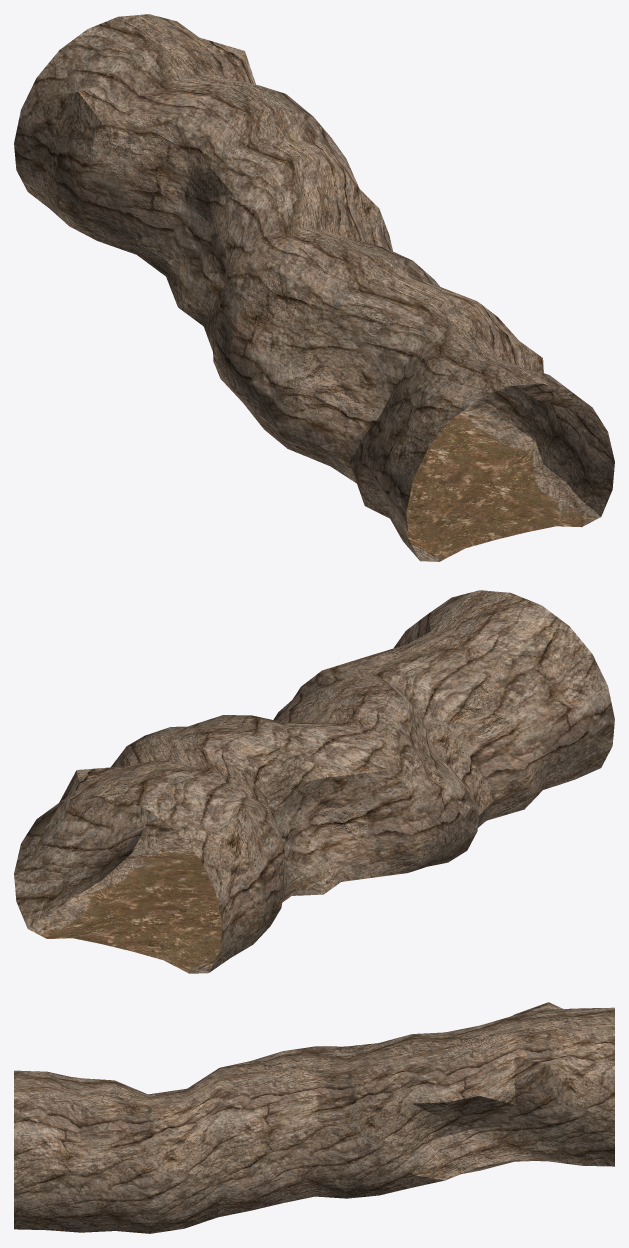
Rendered from CaveCorridorUpSmall.obj.
3 views of the same model, one above another, from view 1: azimuth 30°, elevation 25°; view 2: azimuth 150°, elevation 25°; view 3: azimuth 270°, elevation 25° (orthographic). The views are drawn at different scales.
Parts seen in each view (by area): view 1: CaveCorridorUpSmall; view 2: CaveCorridorUpSmall; view 3: CaveCorridorUpSmall.
Boxes of the visible parts, x1,y1,x2,y2 form: CaveCorridorUpSmall: [14, 14, 614, 561]; CaveCorridorUpSmall: [14, 590, 614, 973]; CaveCorridorUpSmall: [14, 1002, 614, 1233].
Bounding box in the file's own units: 3.53 × 3.52 × 10.4.
